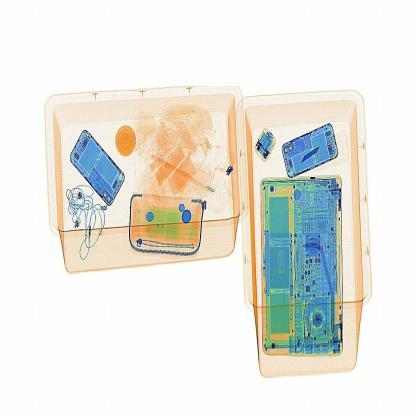pliers: (299, 138, 328, 166)
